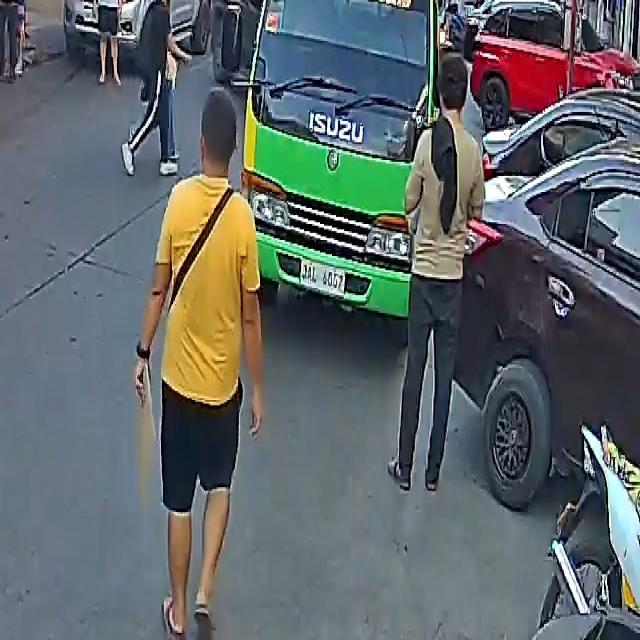car: (452, 95, 640, 518), (468, 0, 639, 133), (60, 0, 224, 78)
